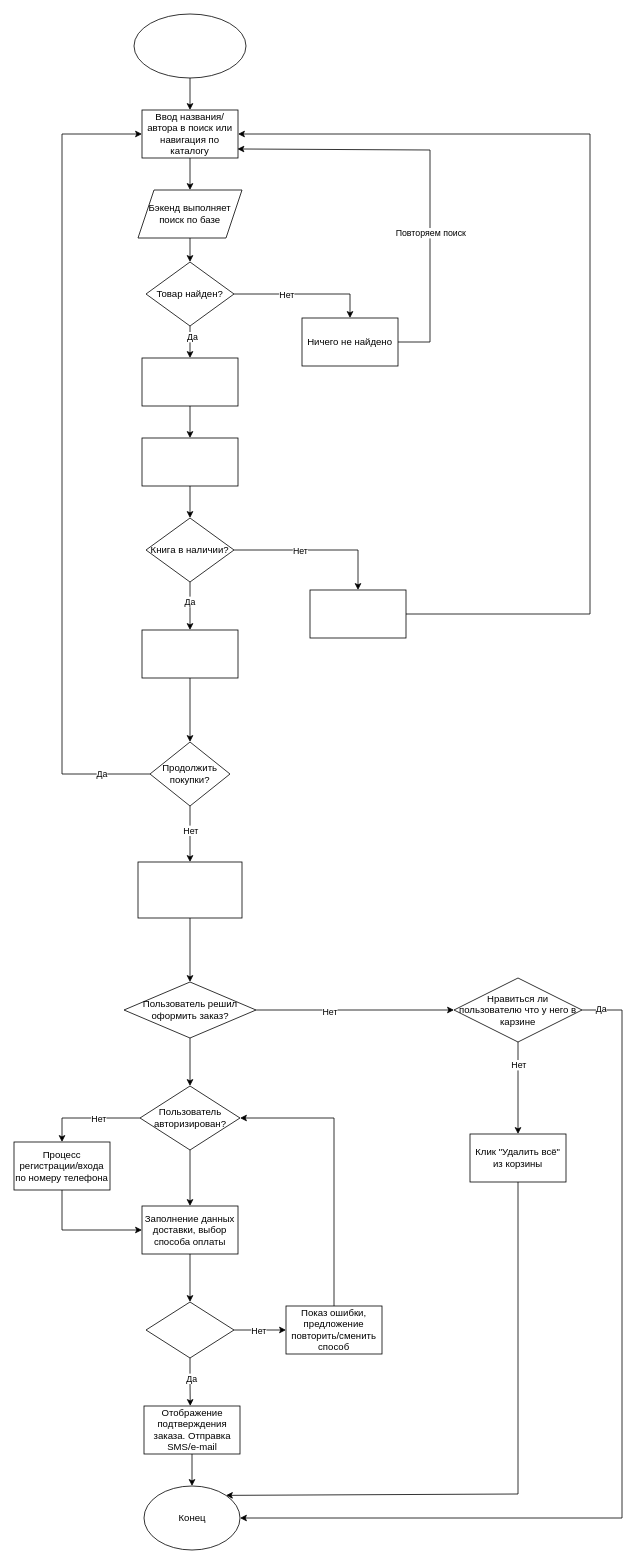
Image size: 642x1564. Some labels were removed from this diagram. Each missing label, with the centre of its shape:
Клик по книге, просмотр карточки (описание, отзывы, наличие): point 189,461
Нажатие "Добавить в корзину": point 189,653
Оплата прошла успешна?: point 189,1329
Отображение списка книг (обложка, цена, скидка): point 189,381
Переход в корзину. Изменение количества, удаление, ввод промокода: point 189,889
Пользователь на сайте: point 189,45
Предложение "Подписаться на поступление": point 357,613
